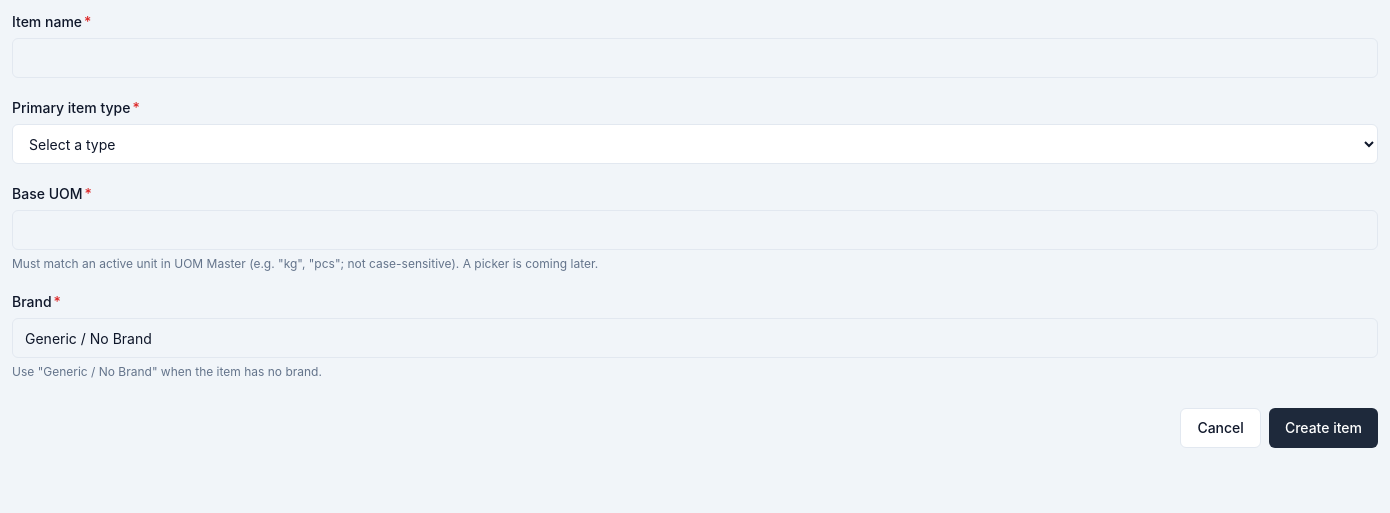
Test: ItemForm › blocks submit and shows field errors when required fields are blank
The image size is (1390, 513).
Click the button "Create item": (1323,428) [1269, 408, 1378, 448]
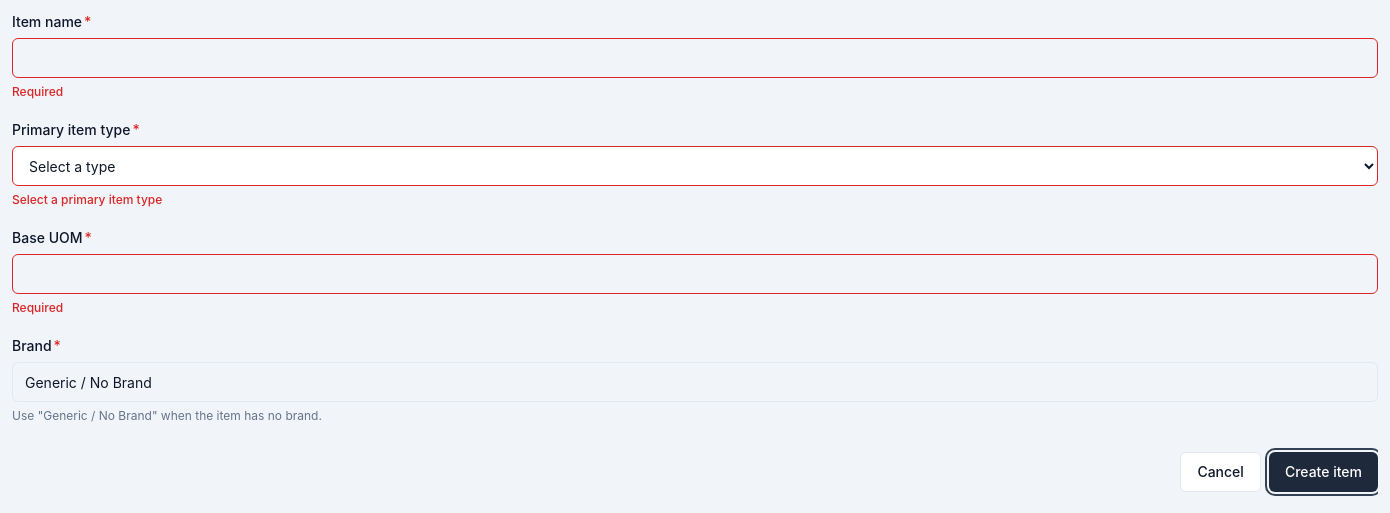
Now the text "Select a primary item type" is shown, box [12, 192, 162, 207]
Now the text "Required" below "Item name" is shown, box [12, 84, 63, 99]
